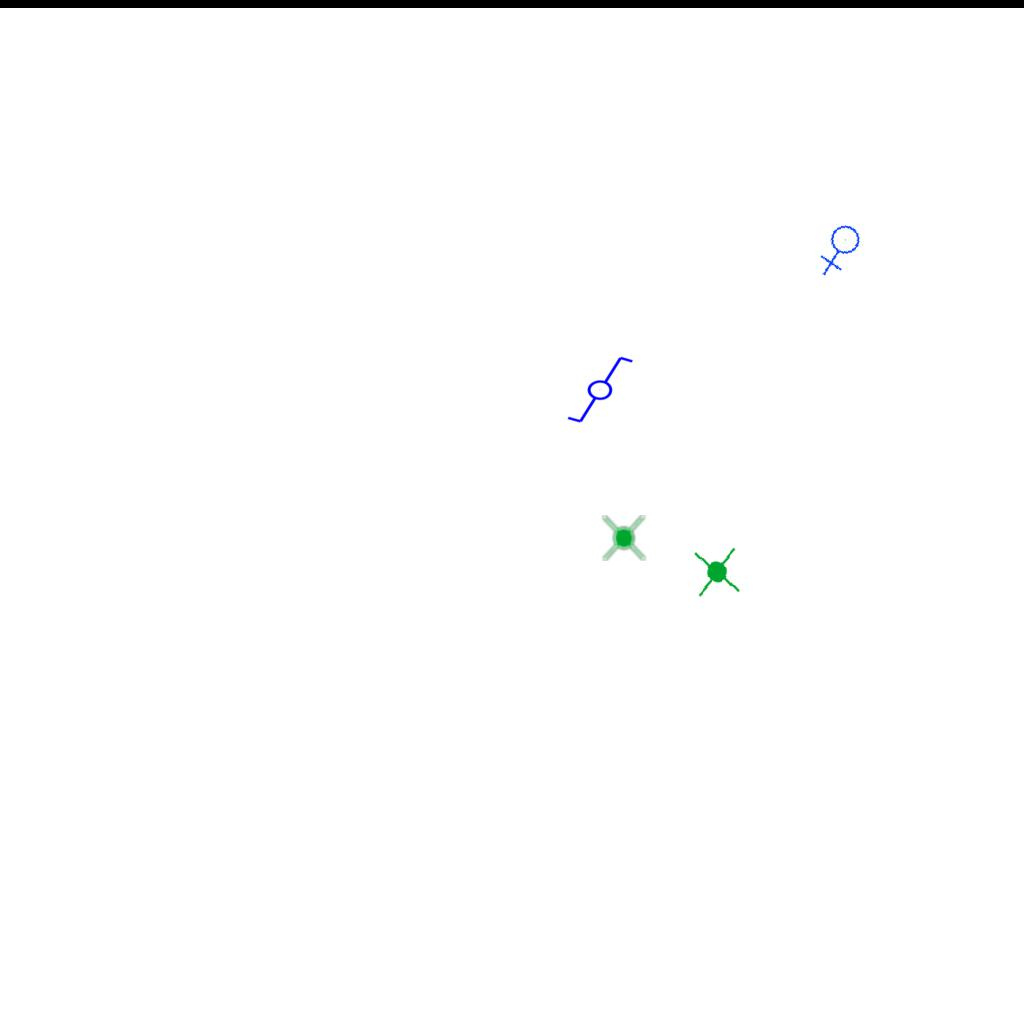Elektroanschluss_allgemein_230V_Geraeteanschlussdose_230V: (812, 220, 871, 279)
Notlichtbaustein_in_Allgemeinbeleuchtug_engebaut_Einbau_(1UG_und_2UG_Aufbauvaria: (688, 544, 745, 600), (599, 513, 650, 563)
Wechselschalter: (557, 353, 635, 425)
